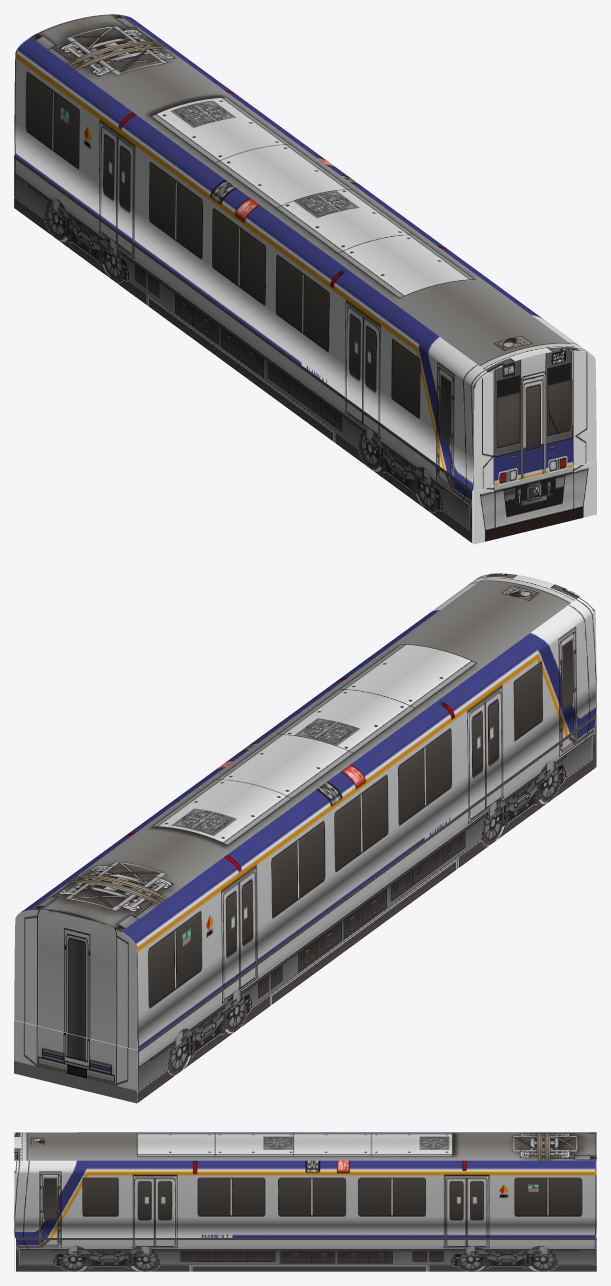
The model's file is car1.glb.
The picture shows the model from 3 angles, top to bottom: view 1: azimuth 30°, elevation 25°; view 2: azimuth 150°, elevation 25°; view 3: azimuth 270°, elevation 25°; orthographic projection. The views are drawn at different scales.
Visible parts, largest first — view 1: nankai-2000-car1; view 2: nankai-2000-car1; view 3: nankai-2000-car1.
Part boxes in pixels (x1,y1,x2,y2): nankai-2000-car1: [14, 14, 596, 544]; nankai-2000-car1: [14, 573, 596, 1103]; nankai-2000-car1: [14, 1132, 596, 1271].
Bounding box in the file's own units: 2.74 × 3.7 × 17.75.
9 materials, 8 textured.
